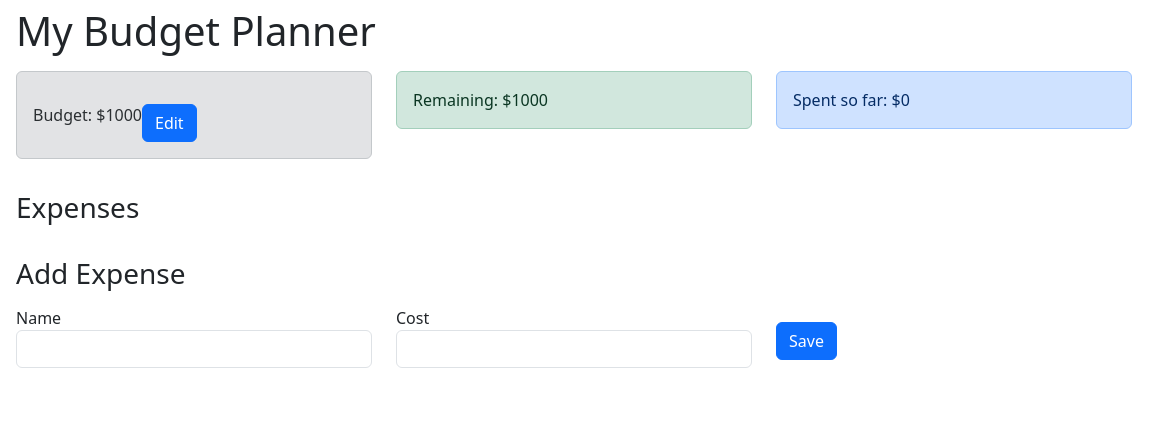
it: Delete Expense › create expense form and delete it
Type "Deletable Expense" into the field labelled "Name" at (194, 349), box top-left (16, 330), bottom-right (372, 368)
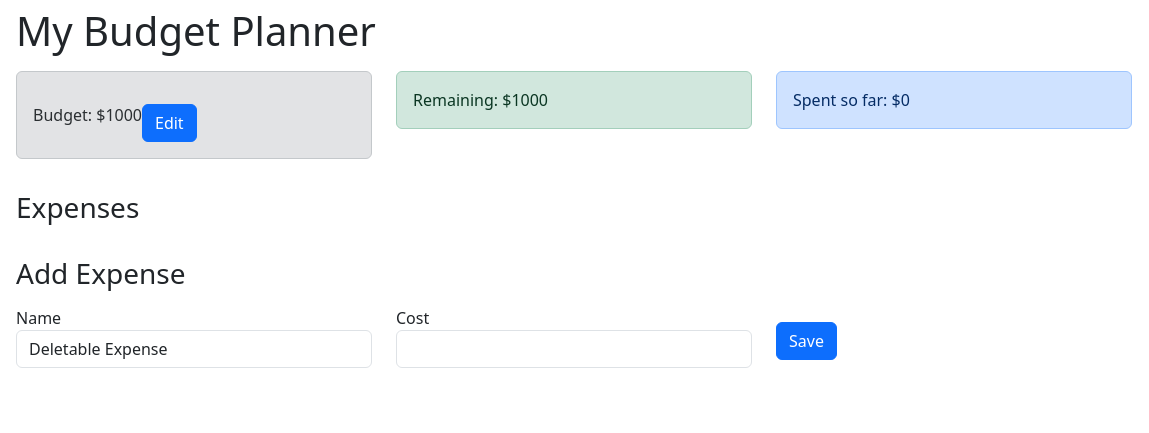
Type "6" into the field labelled "Cost" at (574, 349), box top-left (396, 330), bottom-right (752, 368)
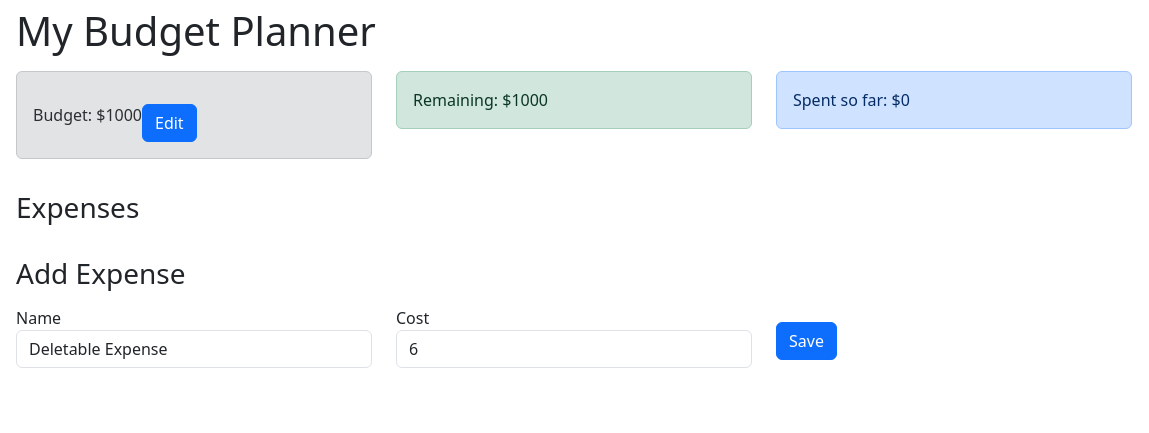
Click the button "Save" at (806, 341), box top-left (776, 322), bottom-right (837, 360)
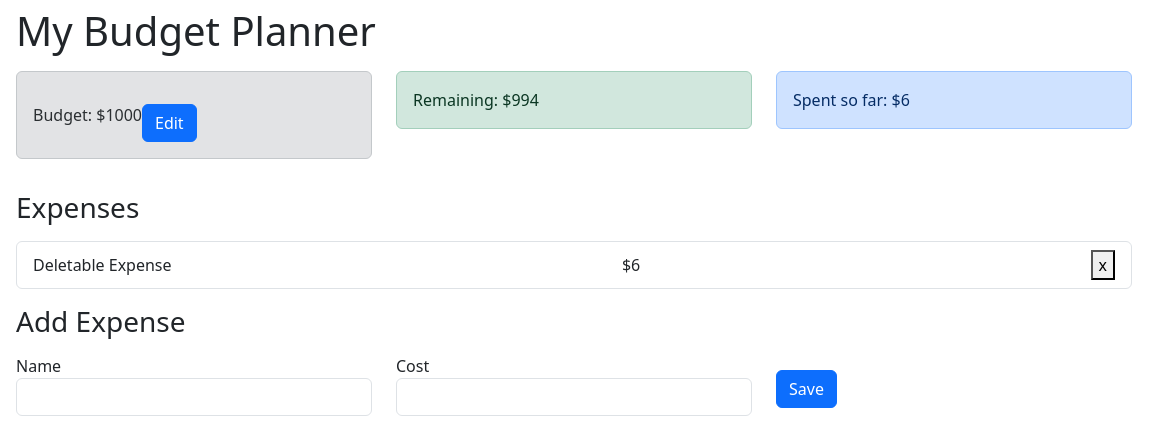
Result: the text "Deletable Expense" is shown at top-left (33, 253), bottom-right (172, 277)
Click the button "x" at (1103, 265), box top-left (1090, 250), bottom-right (1115, 280)
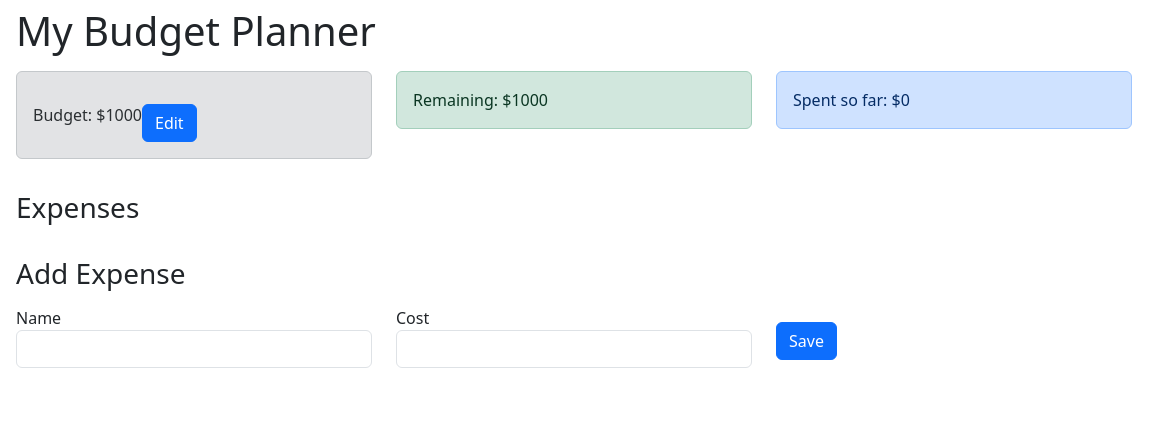
Result: the text "Deletable Expense" is gone
Result: the text "Spent so far: $0" is shown at top-left (793, 89), bottom-right (910, 111)
Result: the text "Remaining: $1000" is shown at top-left (413, 89), bottom-right (548, 111)
